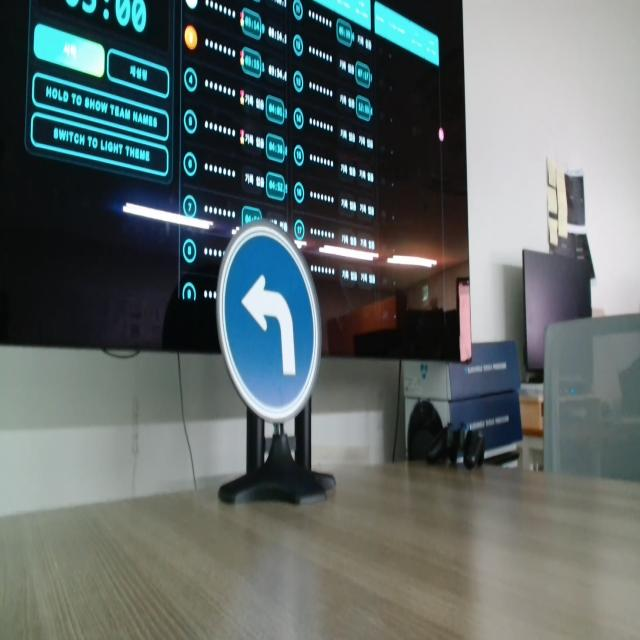left_direction: (205, 209, 334, 428)
